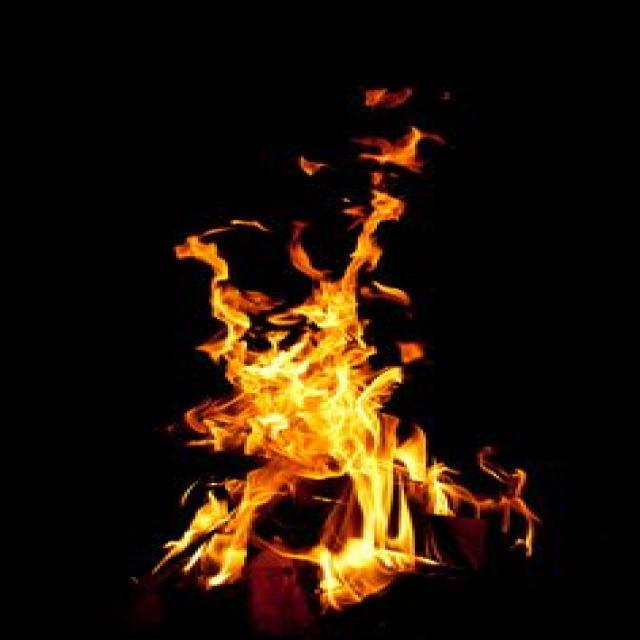Fire: (162, 102, 532, 635)
